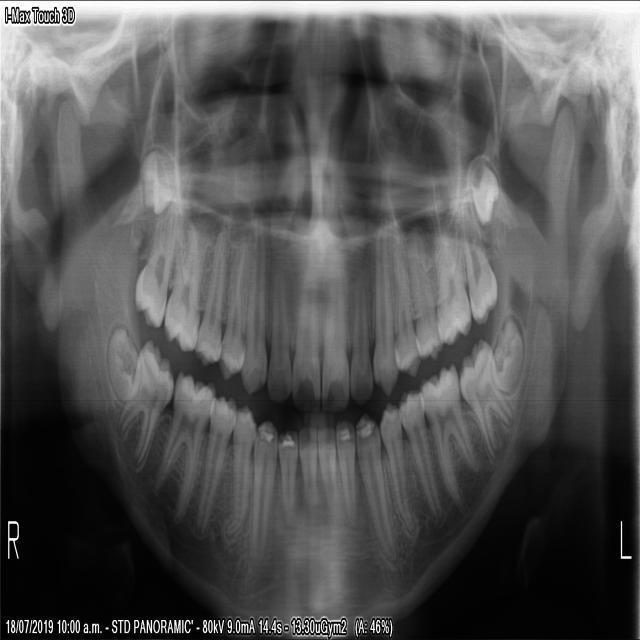LCD: (351, 408, 396, 567)
LCU: (371, 212, 398, 396)
LID: (315, 423, 342, 536), (332, 415, 358, 527)
LIU: (317, 243, 351, 418), (347, 240, 374, 412)
LMD: (416, 354, 481, 515), (456, 326, 512, 464), (488, 311, 523, 392)
LMU: (430, 218, 473, 348), (459, 218, 498, 324), (464, 147, 503, 235)
LPMD: (393, 385, 444, 524), (376, 396, 416, 540)
LPMU: (389, 218, 421, 383), (405, 224, 442, 363)
RCD: (248, 415, 278, 567)
RCU: (238, 214, 268, 399)
RID: (274, 422, 297, 528), (297, 417, 318, 522)
RIU: (288, 250, 322, 417), (263, 242, 291, 409)
RMD: (145, 366, 215, 529), (116, 334, 174, 474), (101, 318, 143, 409)
RMU: (132, 196, 181, 335), (161, 214, 204, 356), (135, 140, 175, 224)
RPMD: (191, 390, 238, 546), (217, 399, 256, 553)
RPMU: (216, 223, 252, 383), (190, 222, 228, 368)
